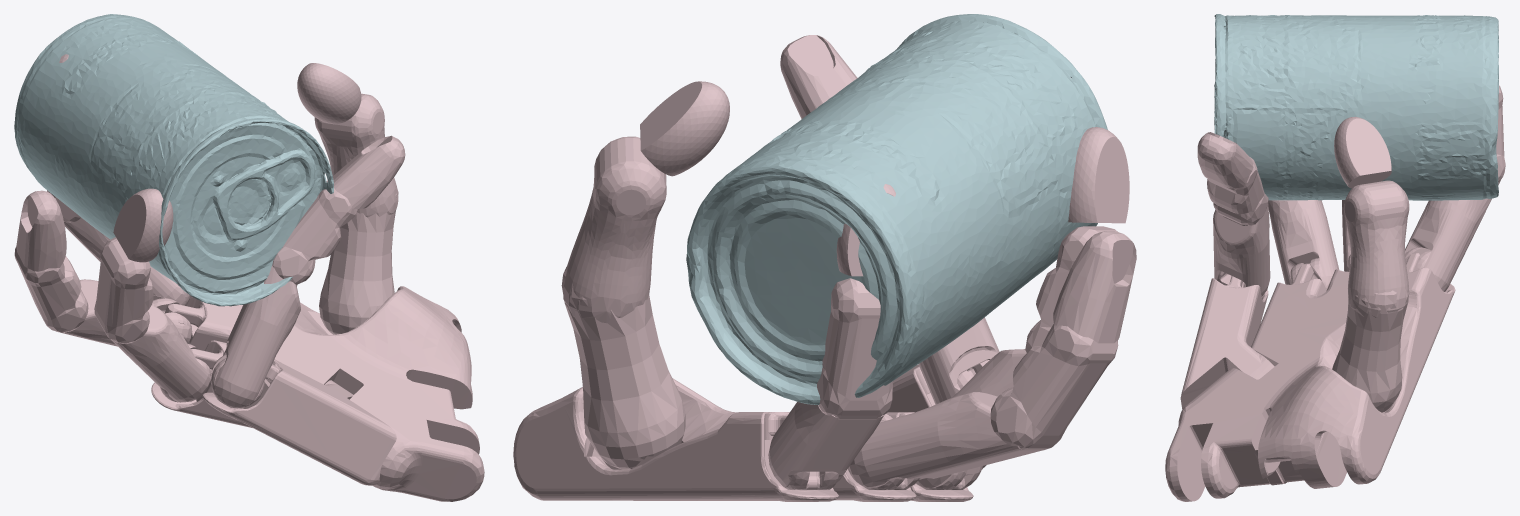
File: grasp_4.glb
3 views of the same model, side by side, from view 1: azimuth 30°, elevation 25°; view 2: azimuth 150°, elevation 25°; view 3: azimuth 270°, elevation 25° (orthographic). The views are drawn at different scales.
Parts seen in each view (by area): view 1: world; view 2: world; view 3: world.
Boxes of the visible parts, x1,y1,x2,y2 form: world: (14, 14, 484, 501); world: (513, 14, 1136, 501); world: (1165, 14, 1505, 501).
Bounding box in the file's own units: 0.1722 × 0.1537 × 0.1218.
